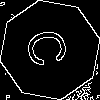C: (25, 25, 77, 69)
